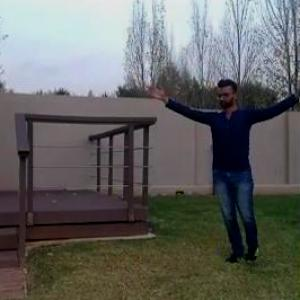takeoff: (140, 78, 299, 259)
